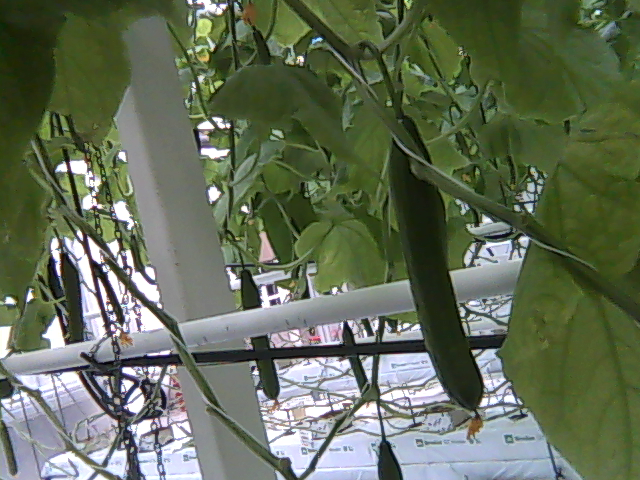concombre: (385, 106, 488, 442)
